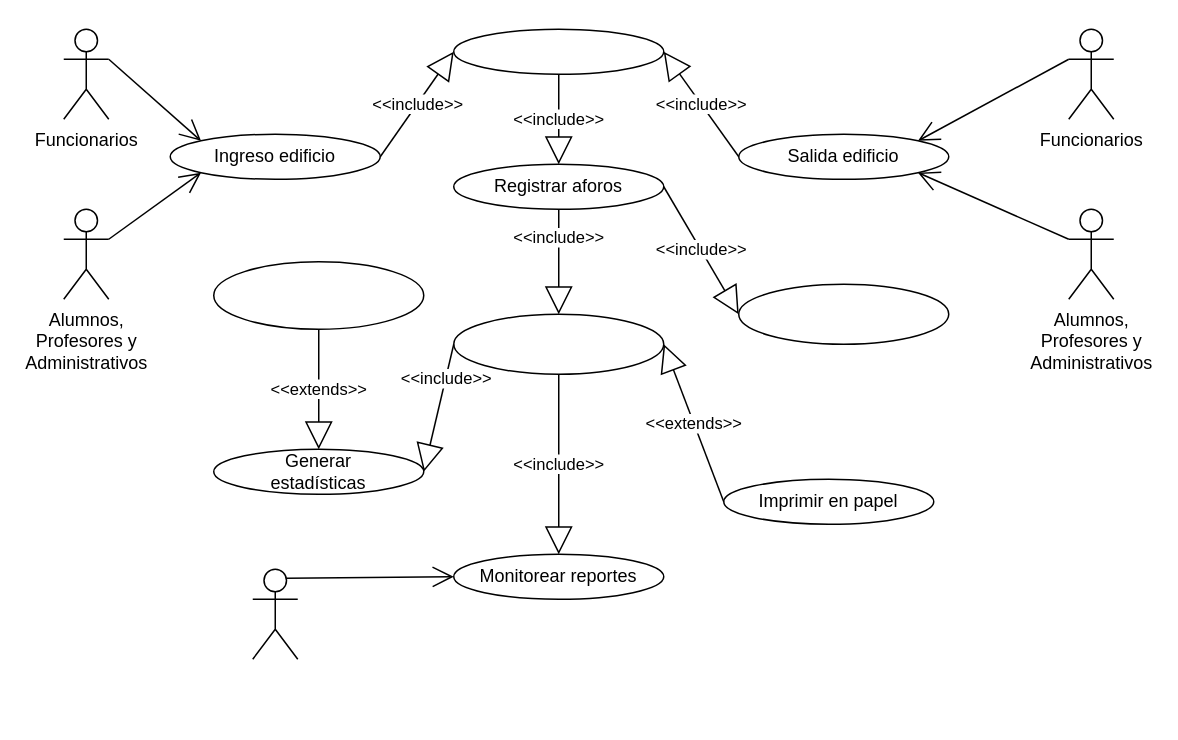
The diagram is 1178 pixels wide and 740 high, and some of its shapes have lost their labels. The box of each missing label's shape, as (x1, y1, x2, y2) in pixels:
Actualizar aforos: (452, 28, 664, 74)
Calcular aforo máximo: (737, 283, 949, 344)
Generar Reportes en linea: (452, 313, 664, 374)
Personal Externo: (251, 568, 298, 659)
Seleccionar el tramo de estadística: (212, 260, 424, 329)
